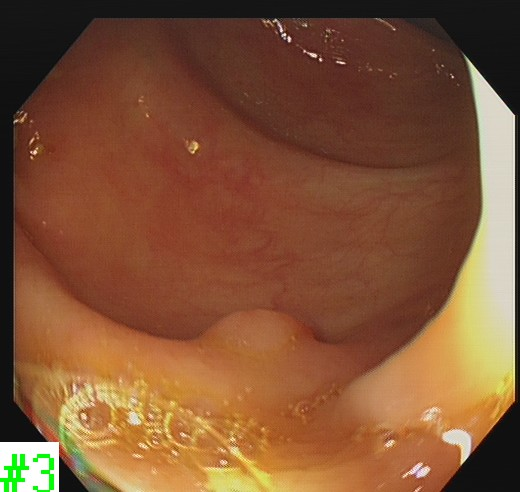adenoma: (195, 307, 319, 347)
